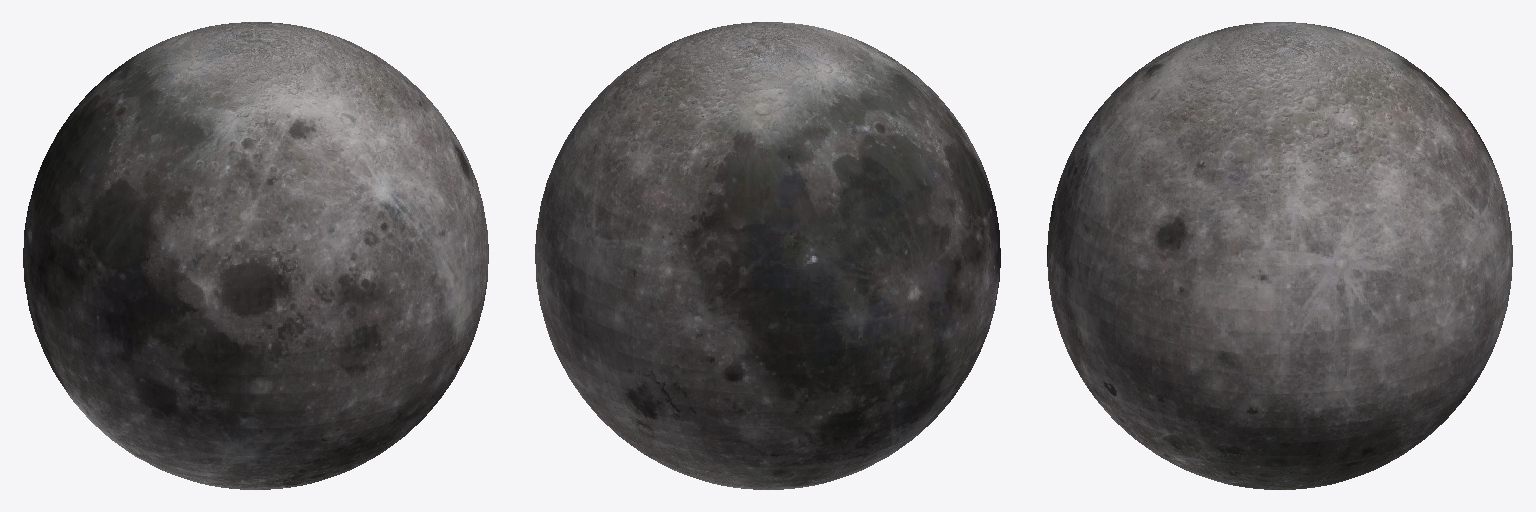
3 views of the same model, side by side, from view 1: azimuth 30°, elevation 25°; view 2: azimuth 150°, elevation 25°; view 3: azimuth 270°, elevation 25° (orthographic).
Parts seen in each view (by area): view 1: moon; view 2: moon; view 3: moon.
Boxes of the visible parts, box(x1,y1,x2,y2) form: moon: box(23, 22, 488, 489); moon: box(535, 22, 1000, 489); moon: box(1047, 22, 1512, 489).
Size of the model in its own units: 1.97 by 2 by 1.97.
Materials: 1 (1 with a texture image).